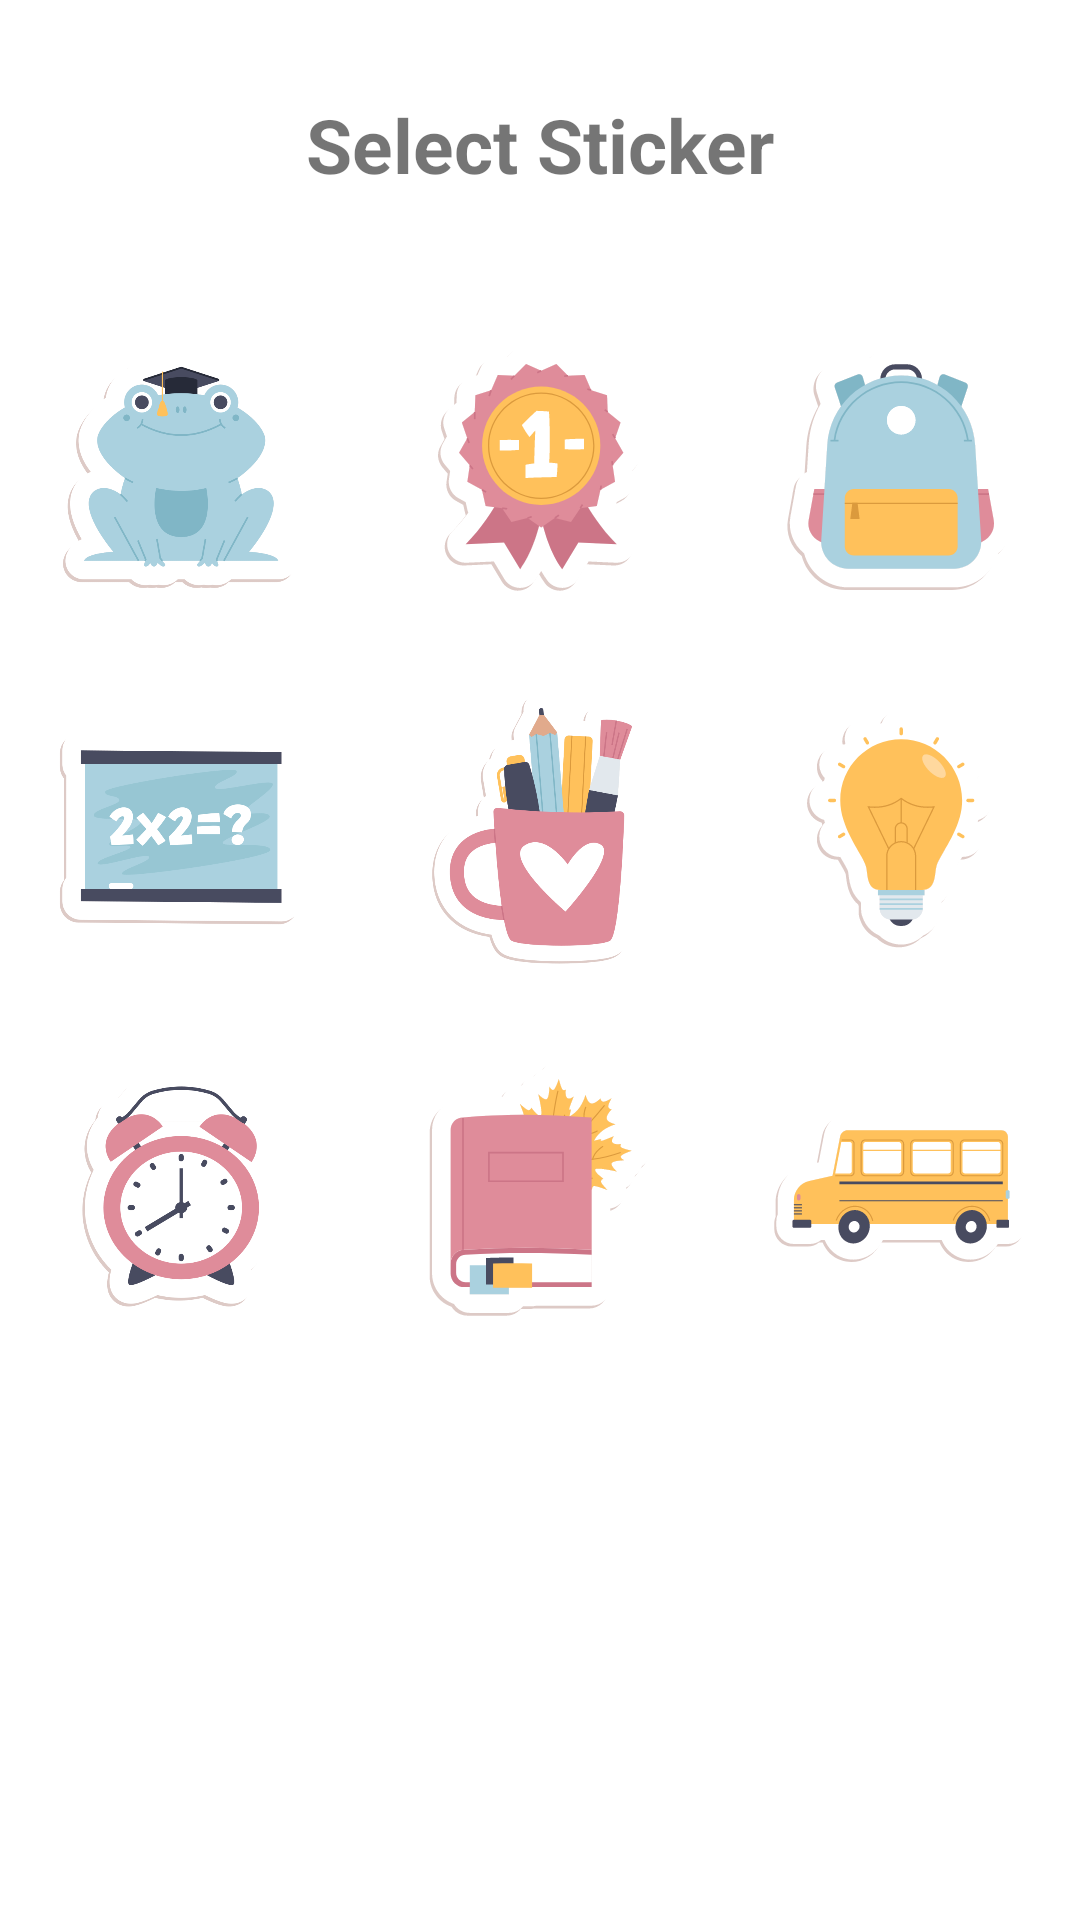

Icons on this 1080px×1920px Android screen, each with its box as box=[x1, y1, x2, y2]:
sticker backpack: box=[787, 364, 1000, 590]
sticker board: box=[60, 741, 293, 924]
sticker book: box=[430, 1079, 643, 1316]
sticker bulb: box=[807, 718, 985, 947]
sticker bus: box=[774, 1126, 1019, 1262]
sticker clock: box=[82, 1086, 259, 1307]
sticker cup: box=[432, 701, 632, 964]
sticker frog: box=[63, 367, 289, 588]
sticker ribbon: box=[438, 364, 628, 591]
